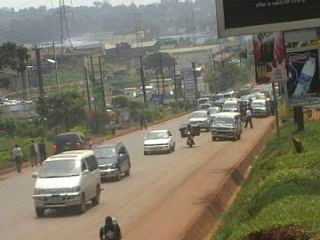Car: (28, 148, 102, 216), (86, 138, 134, 180), (49, 132, 95, 159), (140, 127, 177, 155), (186, 107, 210, 131), (205, 106, 222, 123), (194, 100, 213, 114), (212, 97, 225, 108)
Motorcycle: (178, 122, 201, 147)
